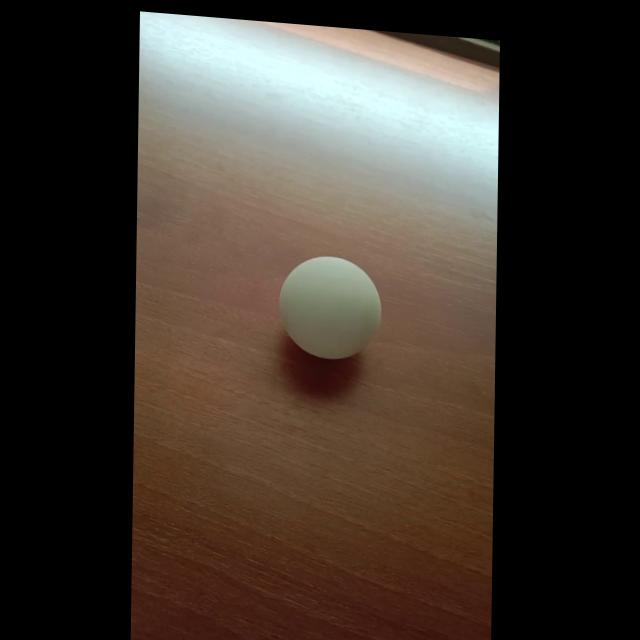white ball: (278, 251, 382, 363)
